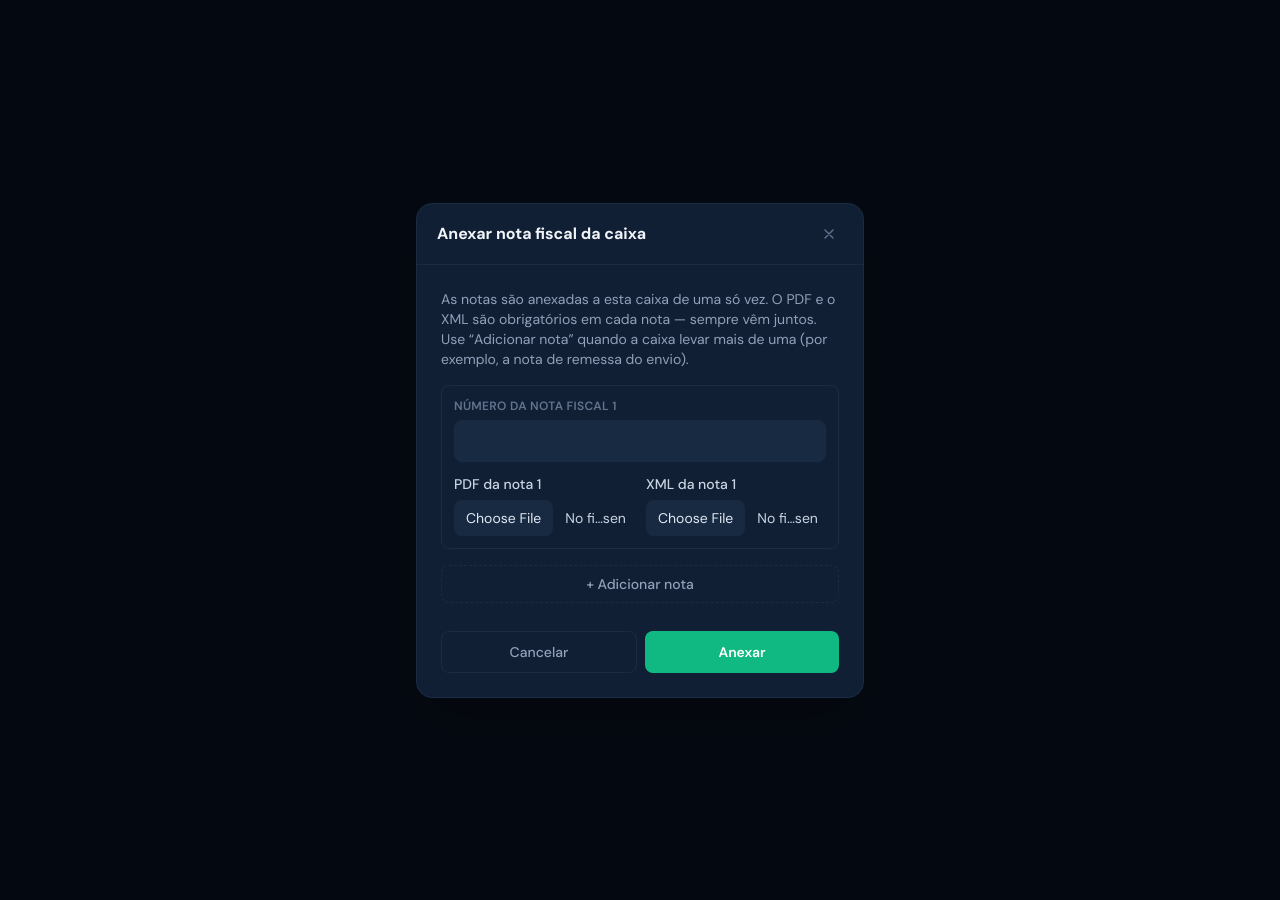
Scenario: NotaFiscalCaixaModal › com um bloco so o erro nao leva prefixo e comeca com maiuscula
The image size is (1280, 900).
Click the button "Anexar" at (742, 652), box [645,630,839,672]
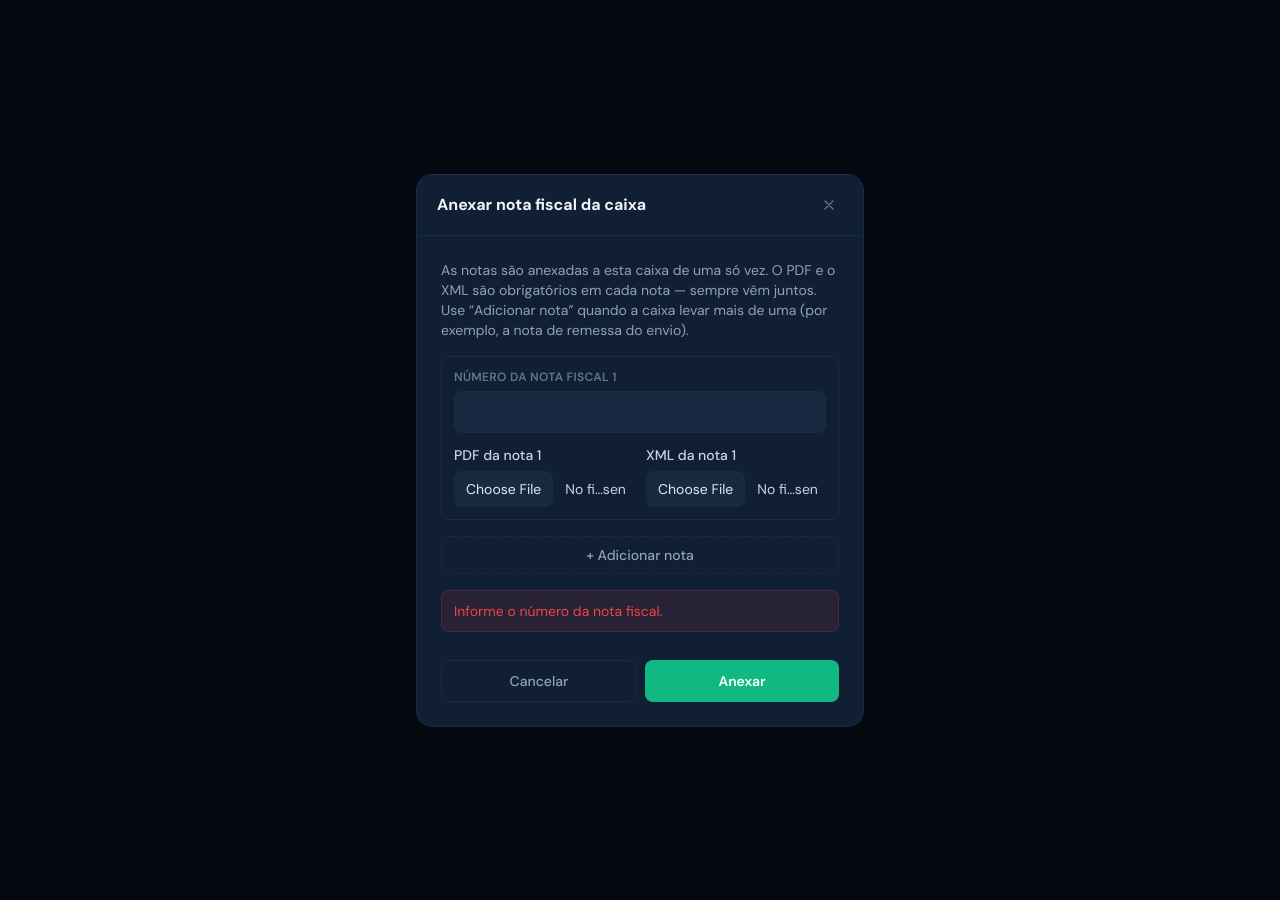
Expected: the text "Informe o número da nota fiscal." is shown, [441,590,839,632]
